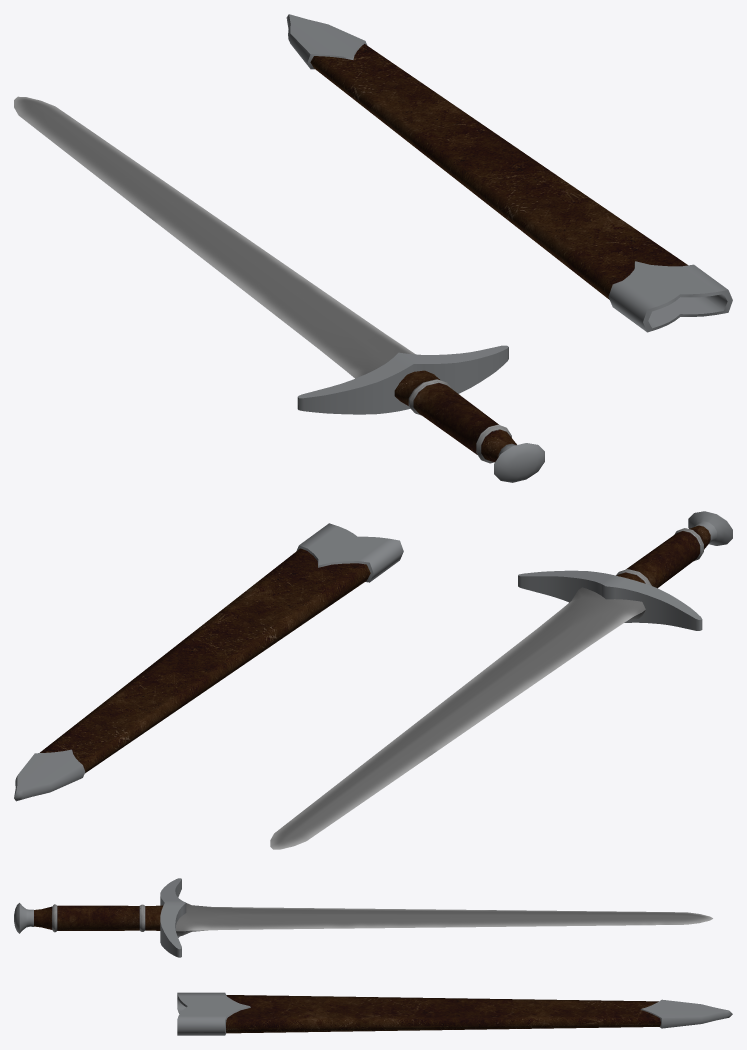
The model's file is Short_Sword.glb.
3 views of the same model, one above another, from view 1: azimuth 30°, elevation 25°; view 2: azimuth 150°, elevation 25°; view 3: azimuth 270°, elevation 25° (orthographic). The views are drawn at different scales.
Visible parts, largest first — view 1: Short_Sword, Sheath; view 2: Short_Sword, Sheath; view 3: Sheath, Short_Sword.
Part boxes in pixels (<box>): Short_Sword: <box>14,96,544,482</box>; Sheath: <box>286,14,732,332</box>; Short_Sword: <box>270,511,732,849</box>; Sheath: <box>14,523,403,801</box>; Sheath: <box>177,992,732,1035</box>; Short_Sword: <box>14,878,712,957</box>.
Bounding box in the file's own units: 612 × 59.49 × 1272.
1 material, 1 textured.
